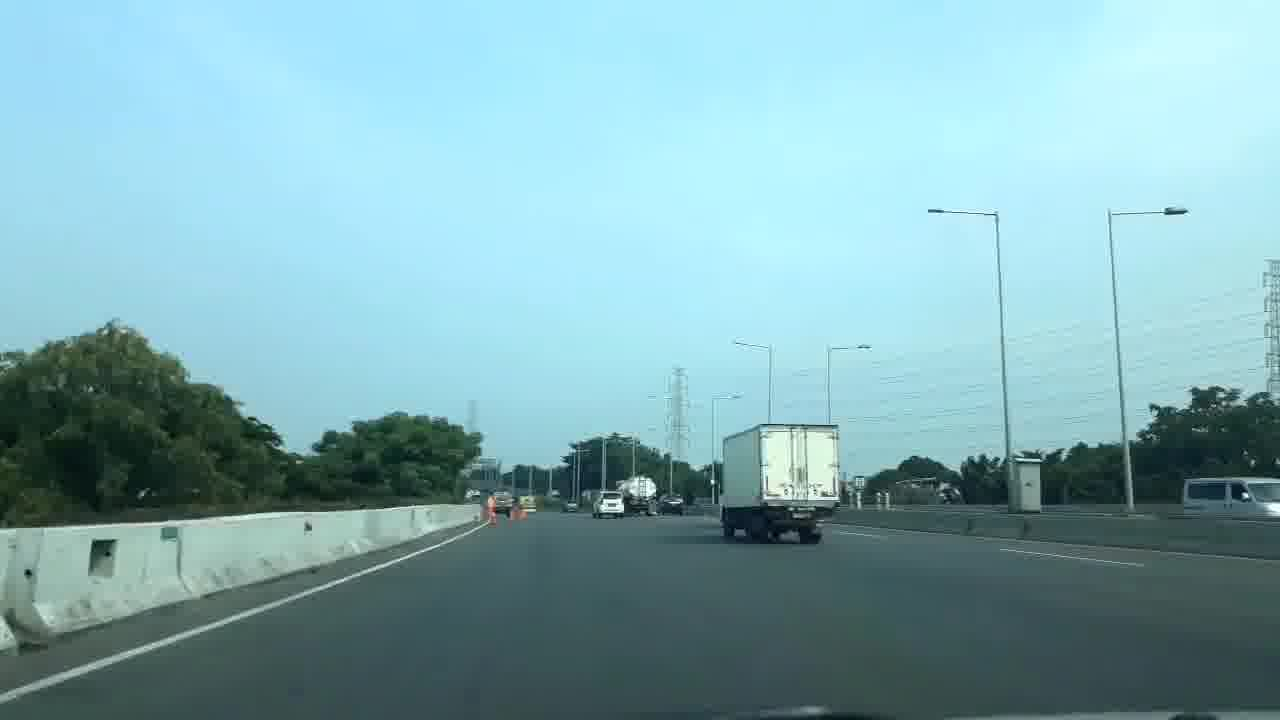plate_positive: (791, 511, 813, 519)
